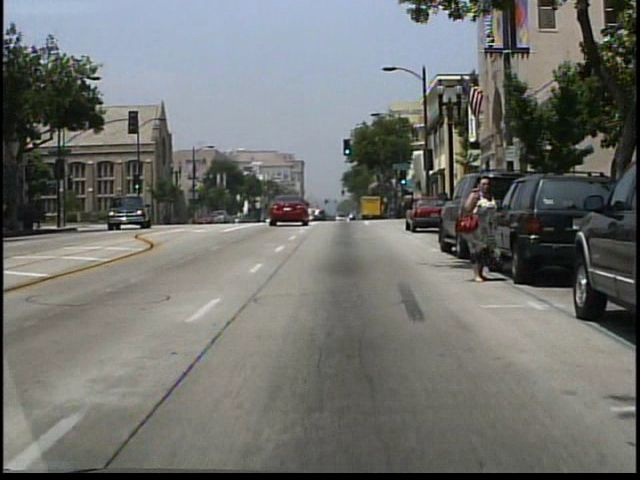person: (460, 175, 512, 286)
